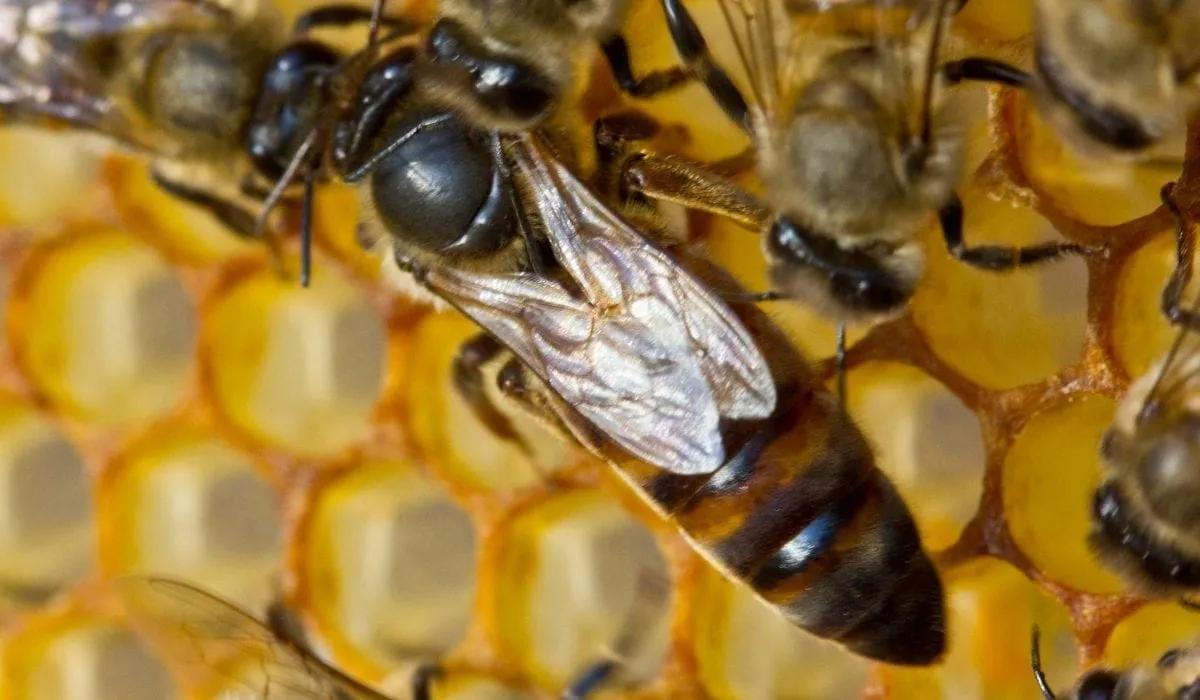Queen-Bee: (331, 11, 945, 665)
